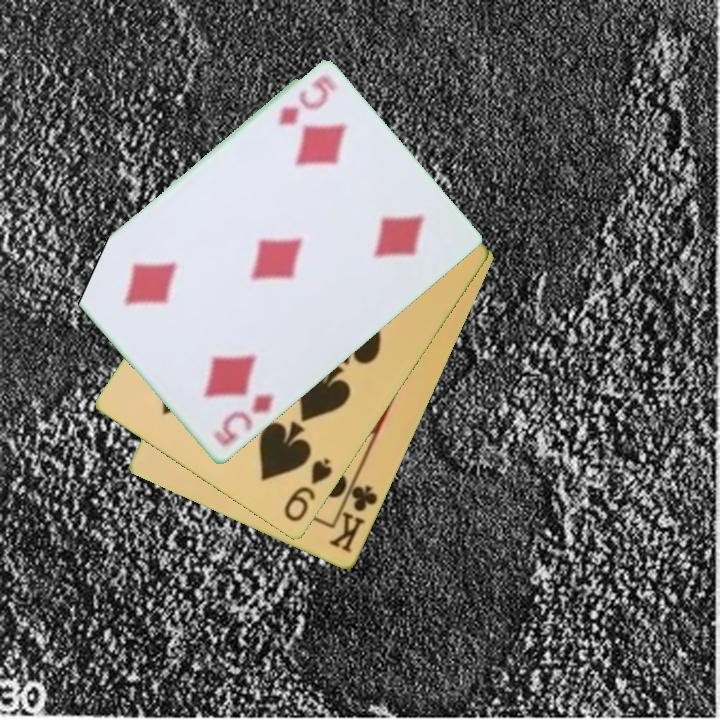5d: (209, 391, 277, 450), (274, 72, 341, 130)
9s: (280, 454, 336, 526)
Kc: (326, 473, 381, 557)
